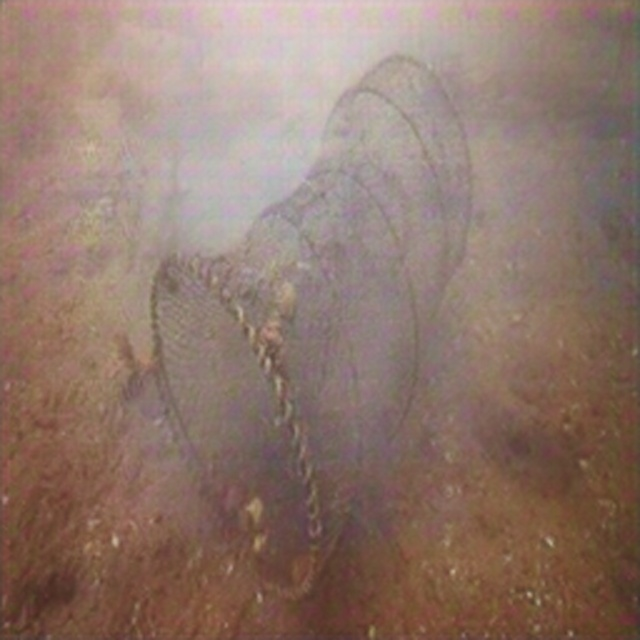mine: (147, 52, 472, 601)
